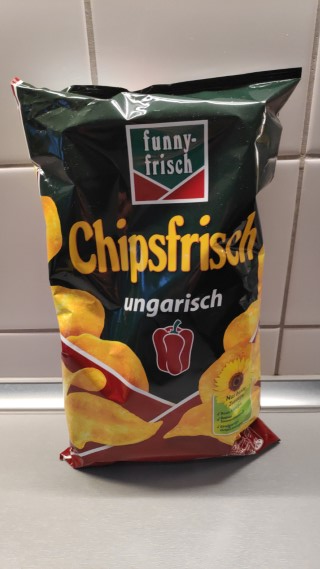chipsfrisch: (9, 65, 304, 469)
